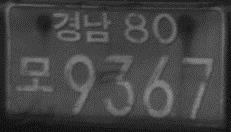0: (152, 11, 178, 46)
3: (101, 54, 136, 116)
6: (140, 54, 175, 117)
7: (178, 55, 216, 121)
8: (122, 10, 149, 45)
9: (62, 54, 97, 113)
경남_O: (51, 10, 112, 44)
모: (15, 54, 55, 94)
